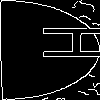H: (25, 25, 100, 61)
